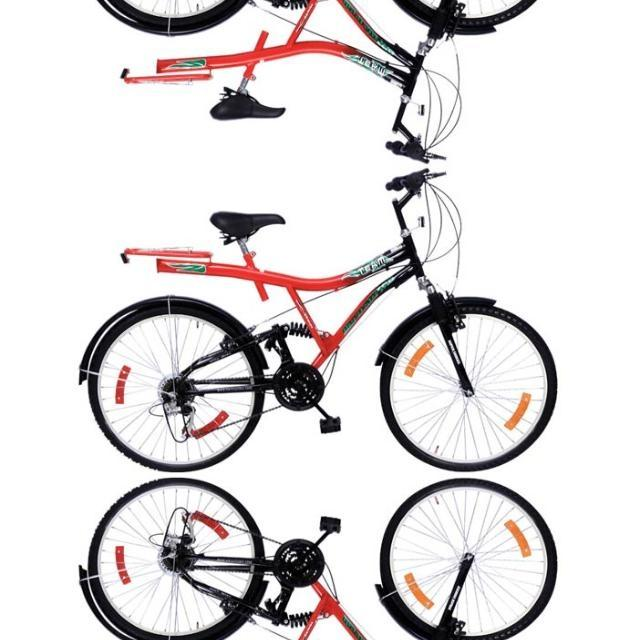obstacle: (60, 165, 592, 475), (60, 0, 592, 165), (60, 475, 592, 640)
